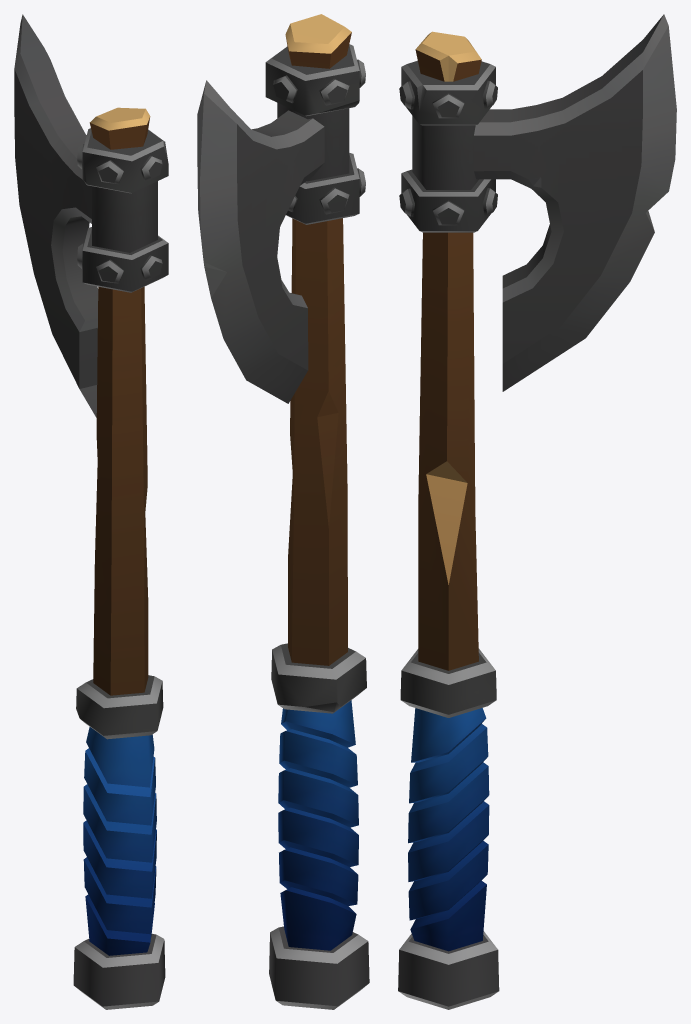
The model's file is BattleAxe_3_1_C.glb.
3 views of the same model, side by side, from view 1: azimuth 30°, elevation 25°; view 2: azimuth 150°, elevation 25°; view 3: azimuth 270°, elevation 25° (orthographic). The views are drawn at different scales.
Visible parts, largest first — view 1: BattleAxe_3_1_C; view 2: BattleAxe_3_1_C; view 3: BattleAxe_3_1_C.
Boxes of the visible parts, <box> form: BattleAxe_3_1_C: <box>14,14,168,1009</box>; BattleAxe_3_1_C: <box>197,14,369,1009</box>; BattleAxe_3_1_C: <box>398,14,676,1009</box>.
Bounding box in the file's own units: 0.1247 × 1.31 × 0.3375.
2 materials, 2 textured.
